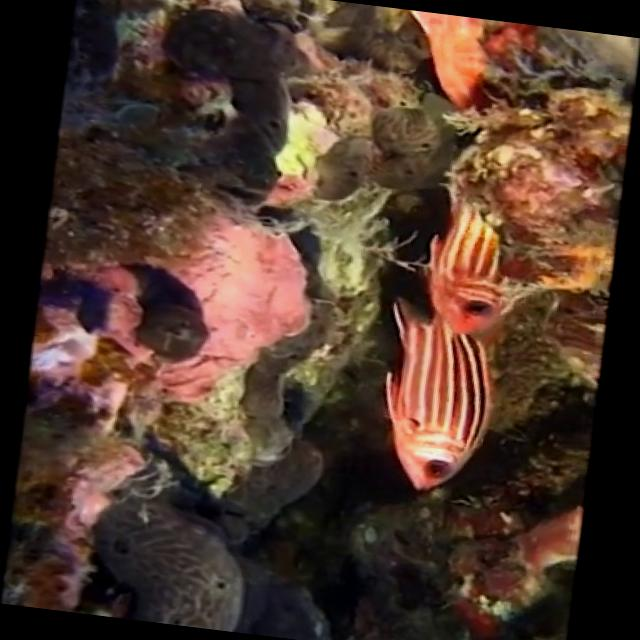Asker Baligi: (360, 296, 508, 502)
